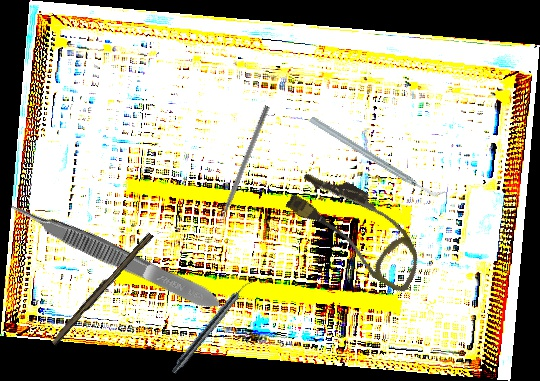Cannula: (276, 160, 439, 296)
Chopper: (307, 79, 447, 234)
Handpiece: (169, 276, 255, 377)
Pusher: (212, 104, 271, 233)
Scalpel Handle: (49, 229, 154, 348)
Tissue Forceps: (3, 192, 225, 317)
